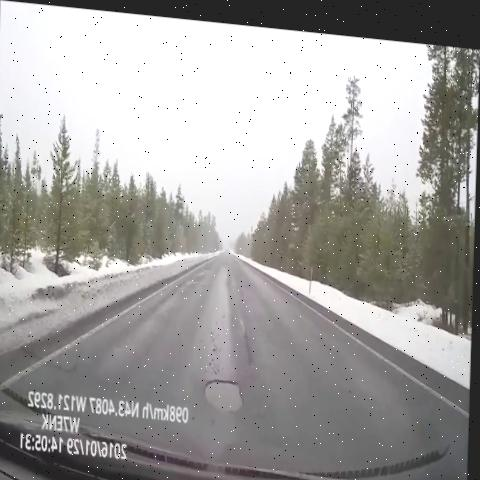pothole: (199, 351, 256, 422)
